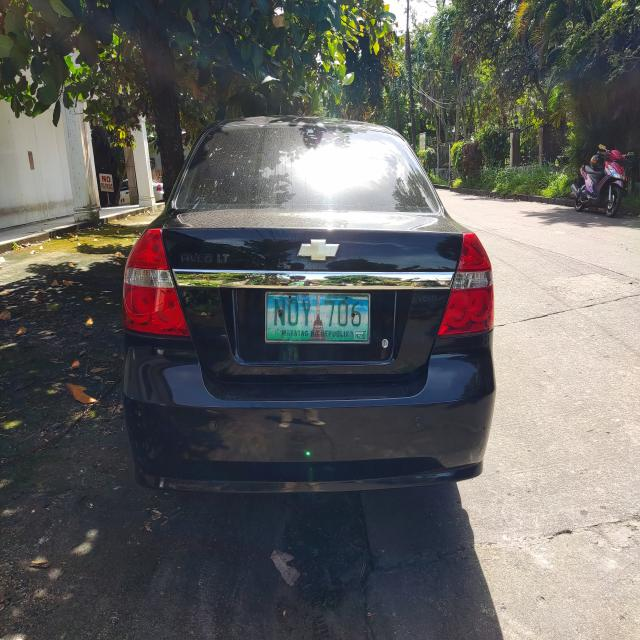plate: (263, 290, 372, 346)
